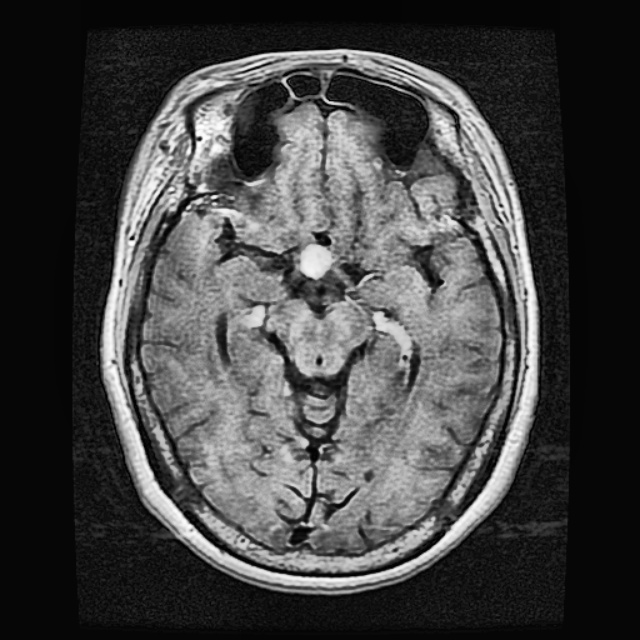Pituitary: (299, 238, 335, 278)
